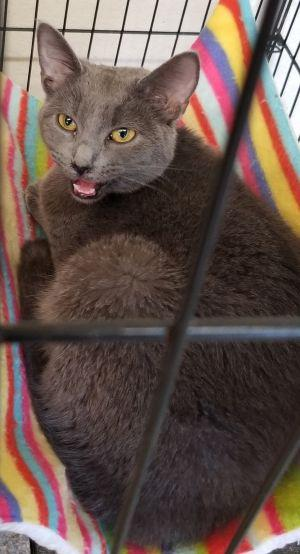rblue: (15, 2, 211, 237)
